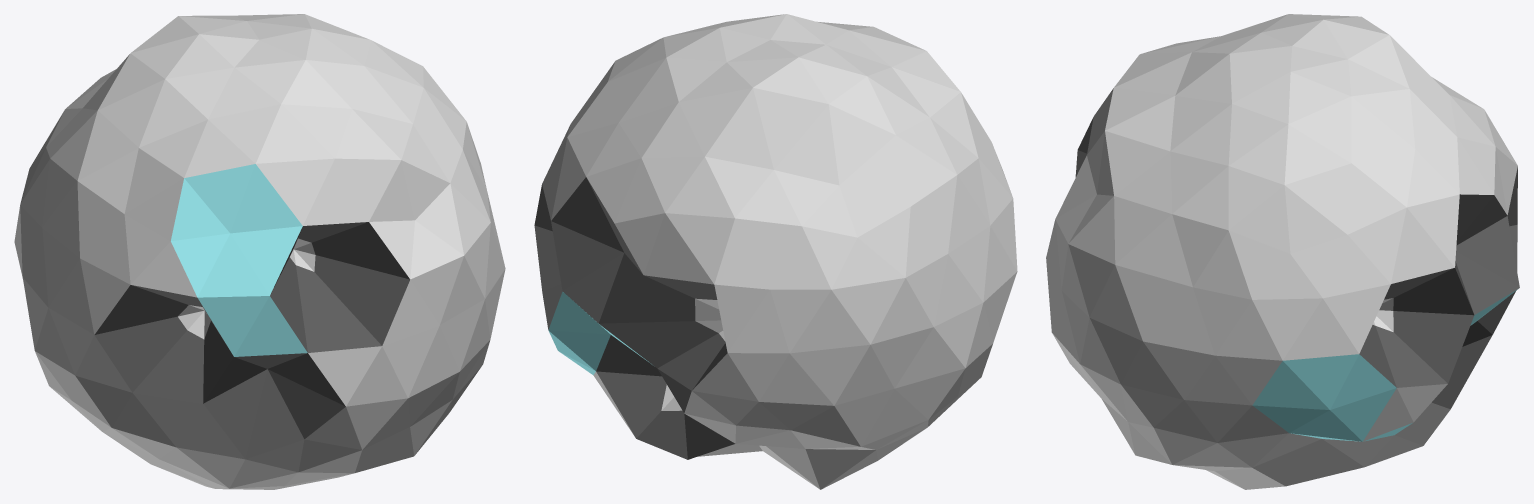
The model's file is world2.dae.
The picture shows the model from 3 angles, left to right: view 1: azimuth 30°, elevation 25°; view 2: azimuth 150°, elevation 25°; view 3: azimuth 270°, elevation 25°; orthographic projection.
Visible parts, largest first — view 1: world_1-col; view 2: world_1-col; view 3: world_1-col.
Part boxes in pixels (left/top/right/bottom): world_1-col: left=14, top=14, right=505, bottom=489; world_1-col: left=534, top=14, right=1017, bottom=489; world_1-col: left=1046, top=14, right=1519, bottom=489.
Size of the model in its own units: 6.31 by 6.12 by 6.12.
